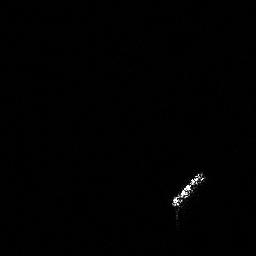ship: (171, 170, 208, 227)
